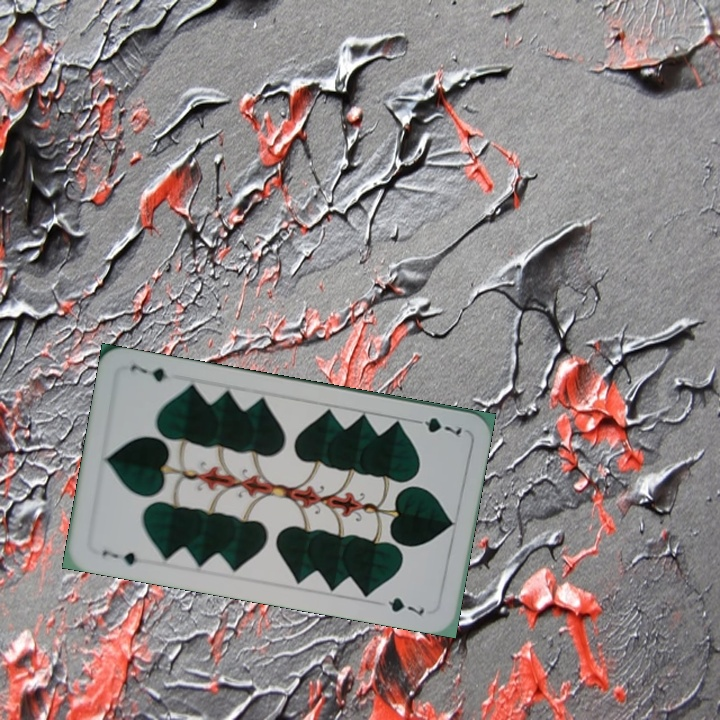G7: (408, 413, 465, 441), (98, 546, 148, 568)
